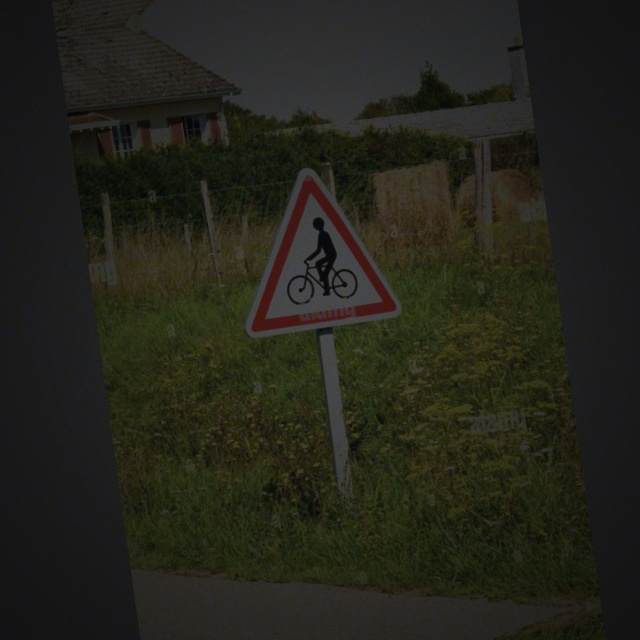Cycle_Crossing: (237, 161, 404, 343)
